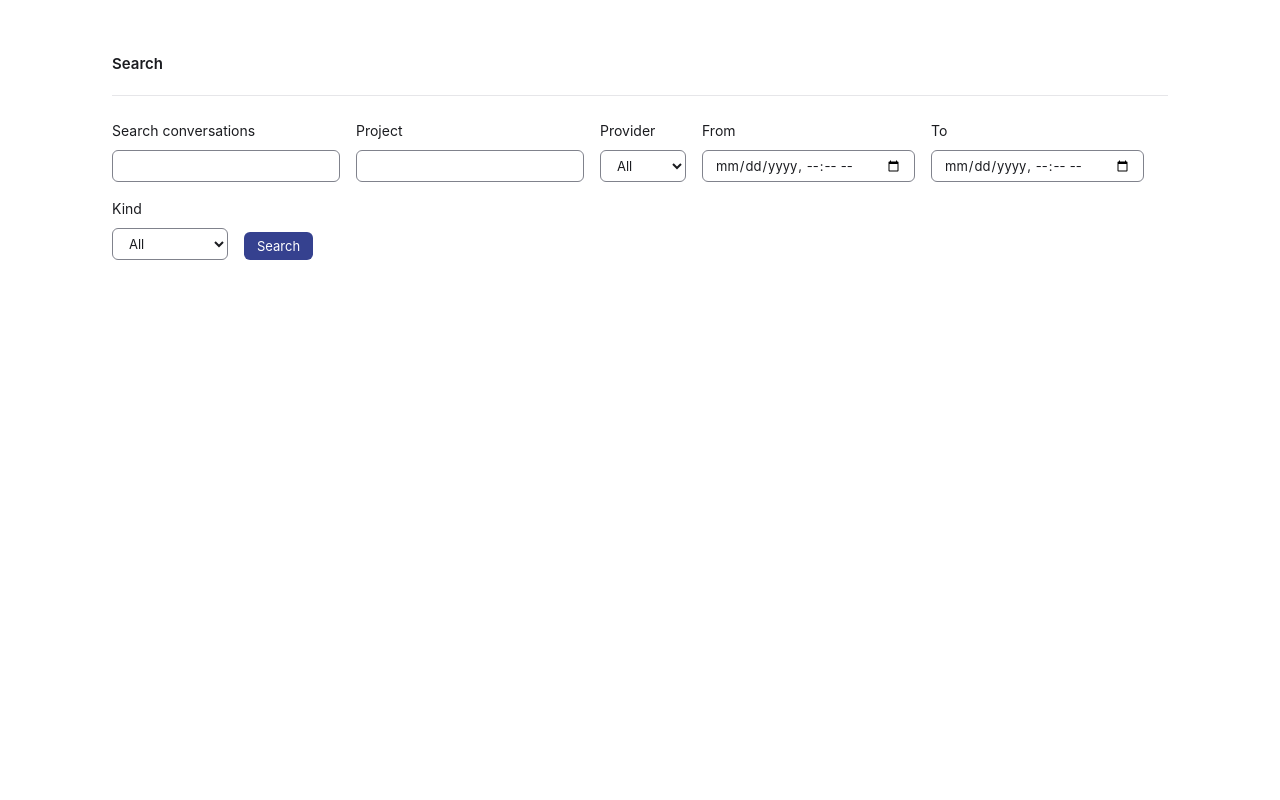
Test: uses readable search context, highlights a bounded excerpt, and links to Changes or the exact message
Type "needle" into the search field labelled "Search conversations".
click(226, 166); type("needle")  # box [112,150,340,182]
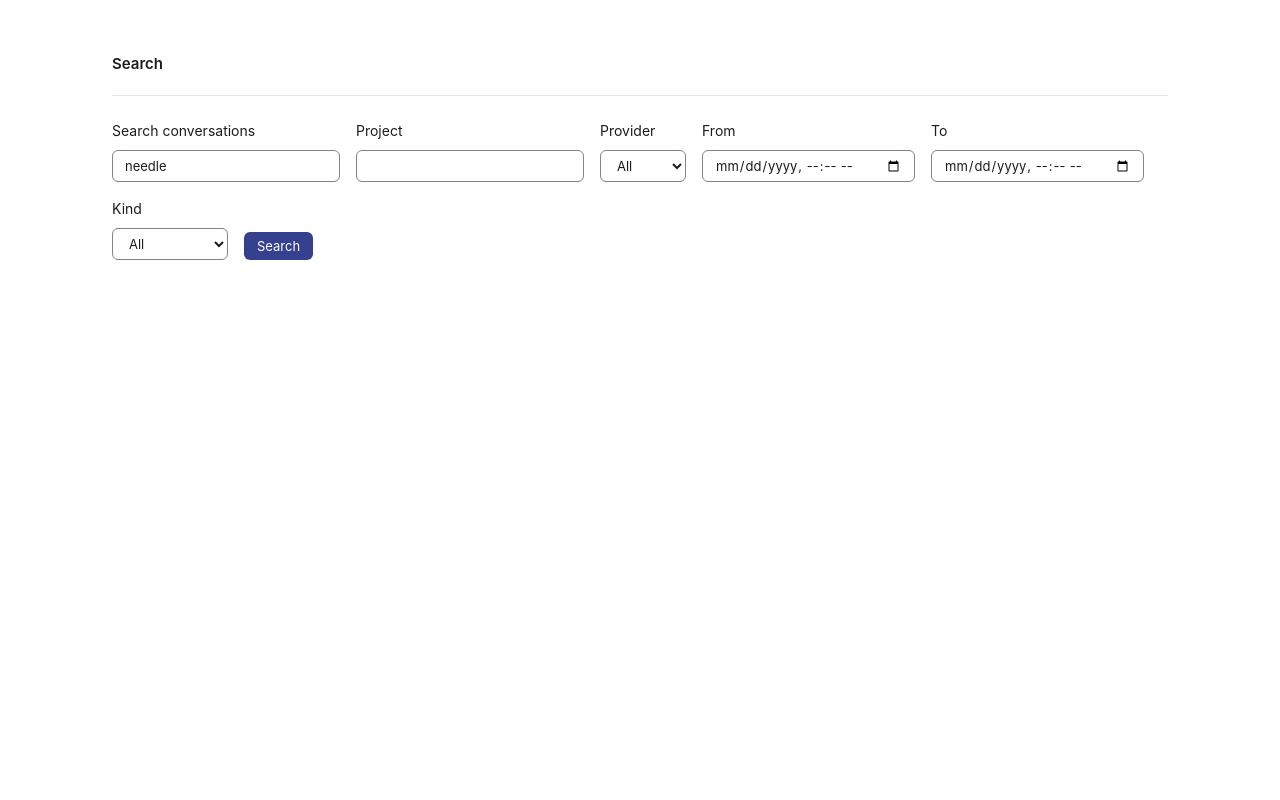
Click the button "Search".
click(279, 246)  # box [244,232,313,260]
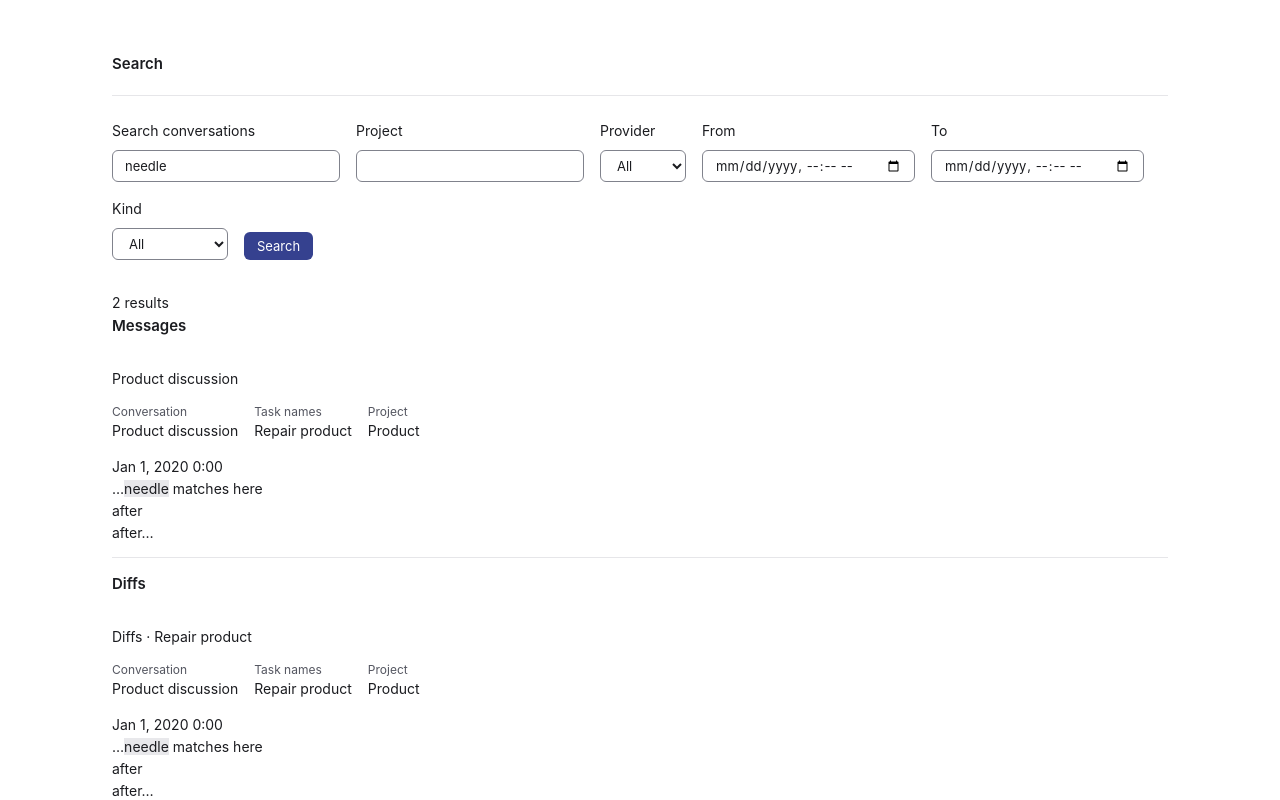
Now the text "2 results" is shown, box [112,294,169,311]
Now the element "Messages" shows "Repair product", box [254,422,352,439]
Now the element "Messages" shows "Product discussion", box [112,370,238,387]
